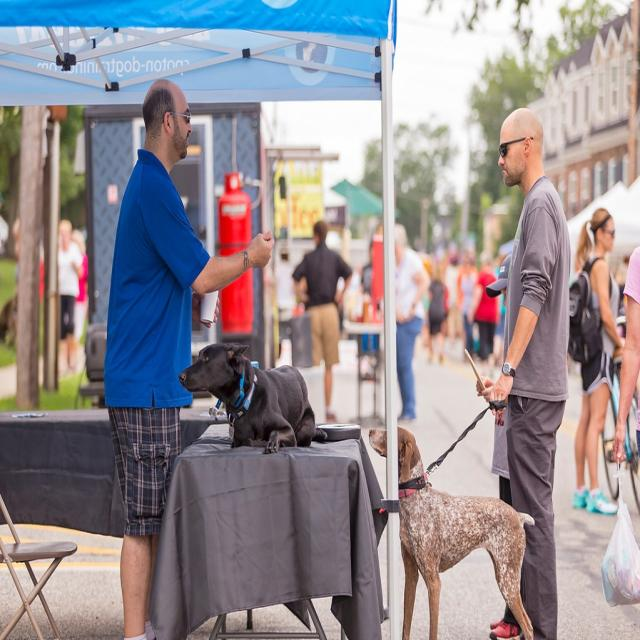body: (100, 73, 278, 639), (487, 106, 567, 640), (564, 203, 628, 522), (476, 251, 520, 640), (290, 220, 353, 424), (610, 202, 639, 640), (412, 238, 499, 372), (0, 185, 56, 376), (394, 223, 431, 425), (338, 217, 386, 349), (57, 218, 82, 374), (70, 228, 90, 341)
